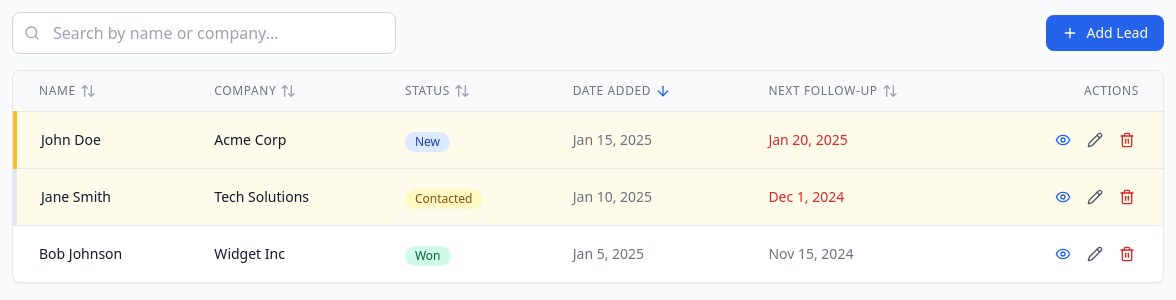
Test case: LeadList › Search Filtering › filters leads by company
// Search for "Tech"
Type "Tech" into the field with placeholder "Search by name or company..." at (204,33), box [12,12,396,54]
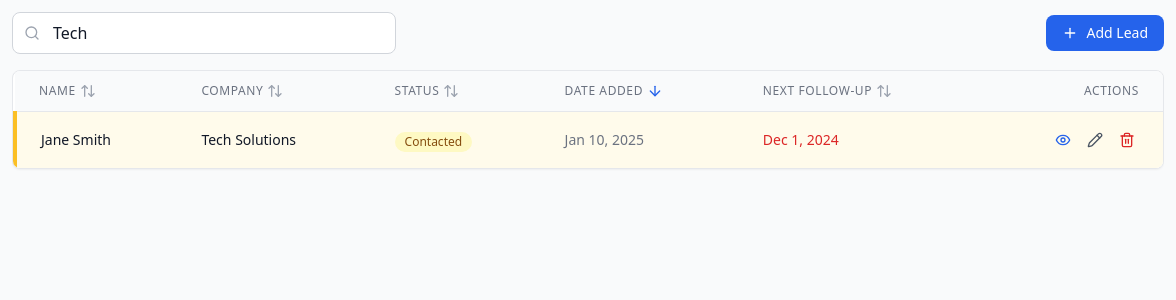
Expected: the text "Jane Smith" is shown, [41,130,111,149]
Result: the text "John Doe" is gone
Result: the text "Bob Johnson" is gone
